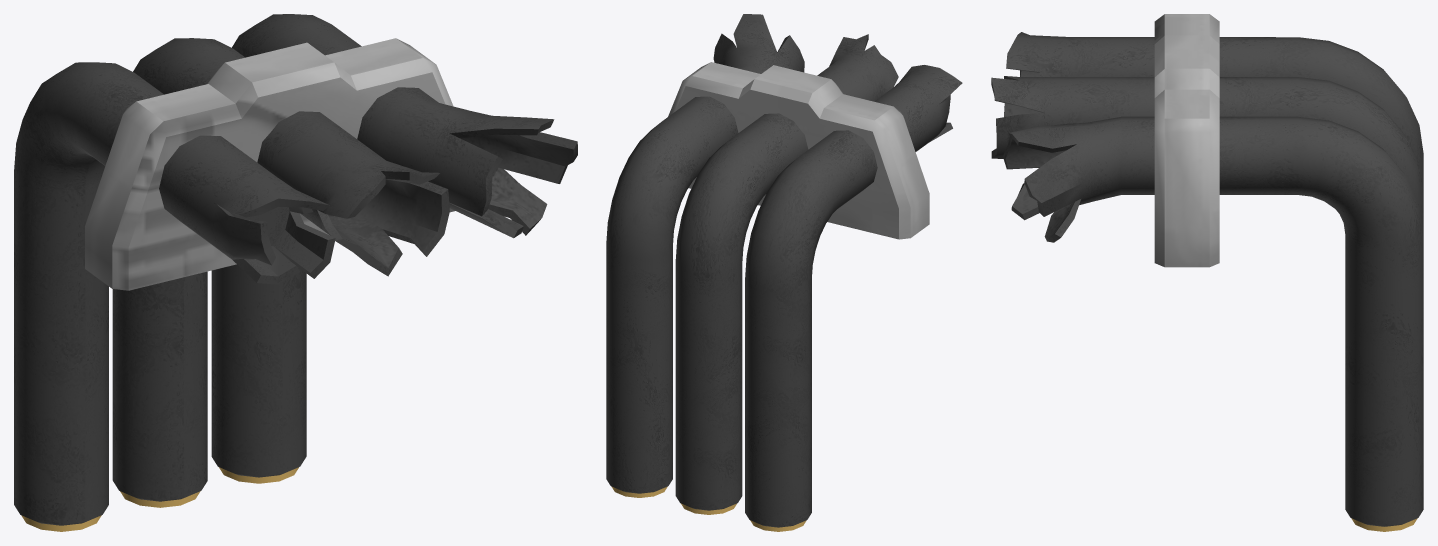
File: 3_pipes_90_toground_cut.fbx
3 views of the same model, side by side, from view 1: azimuth 30°, elevation 25°; view 2: azimuth 150°, elevation 25°; view 3: azimuth 270°, elevation 25° (orthographic). The views are drawn at different scales.
Visible parts, largest first — view 1: 3_pipes_90_toground_cut; view 2: 3_pipes_90_toground_cut; view 3: 3_pipes_90_toground_cut.
Boxes of the visible parts, x1,y1,x2,y2 form: 3_pipes_90_toground_cut: [14, 14, 577, 531]; 3_pipes_90_toground_cut: [606, 14, 962, 531]; 3_pipes_90_toground_cut: [991, 14, 1423, 531].
Bounding box in the file's own units: 234 × 299 × 275.
